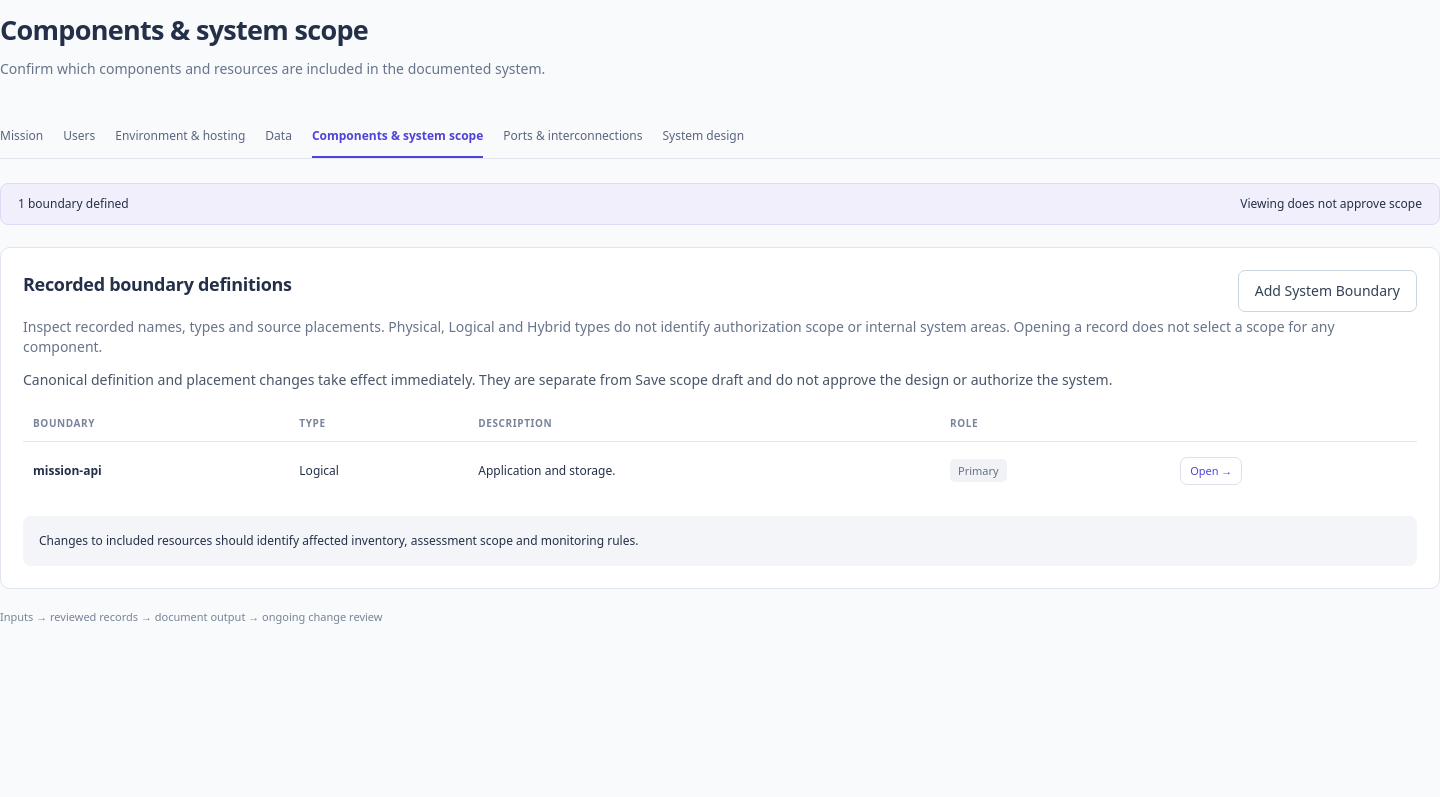
Test case: Inventory and boundary mock parity › shows a saved empty boundary in the same register counted by the status
The width and height of the screenshot is (1440, 797).
Expected: the cell "Logical" is shown, [289,441,468,500]
Expected: the message named "Boundary record status" shows "1 boundary defined", [18,194,129,212]
Click the button with aria-label "Open boundary mission-api" at (1211, 471), box [1180,456,1242,485]
(page scrolled)
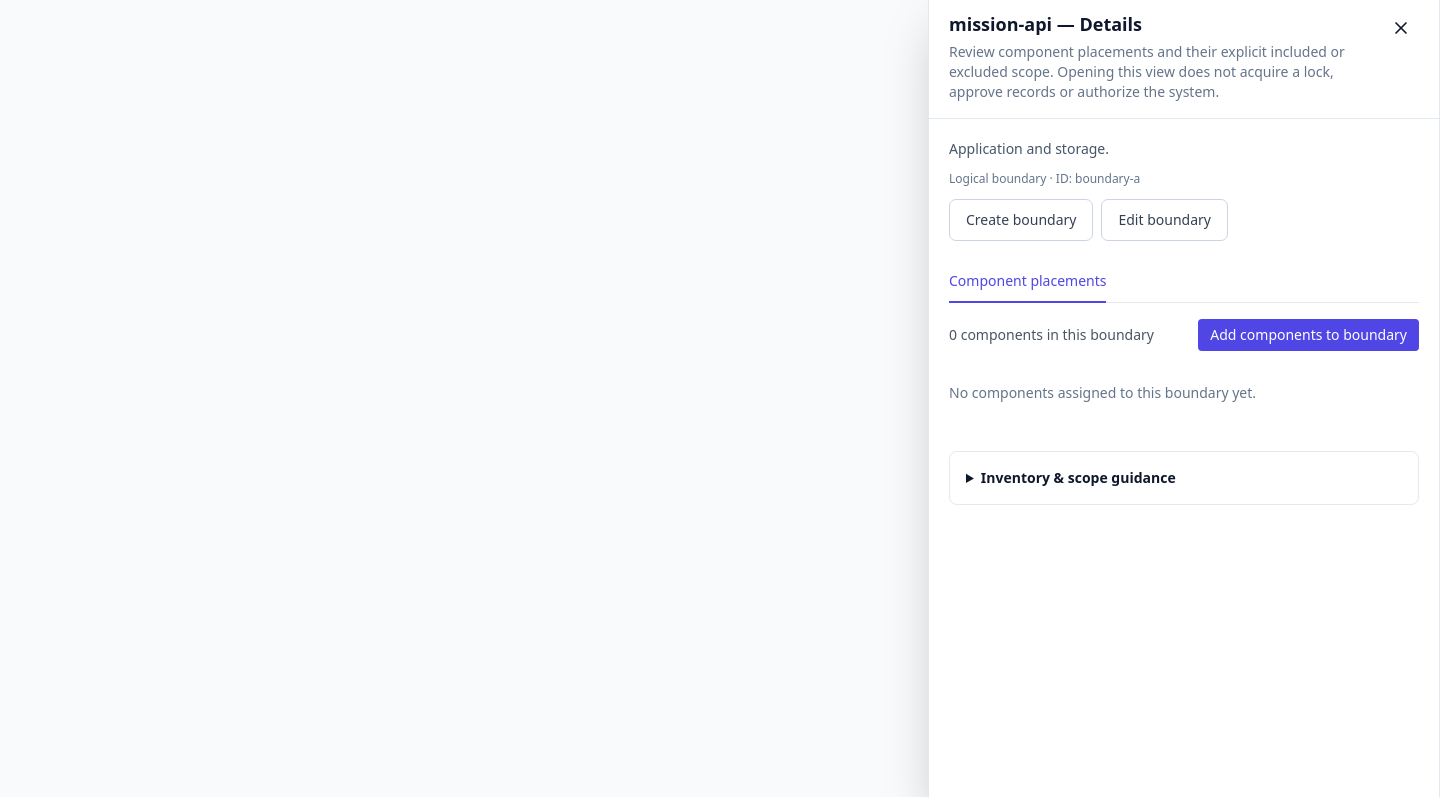
Expected: the text "No components assigned to this boundary yet." is shown, [949,382,1256,402]
